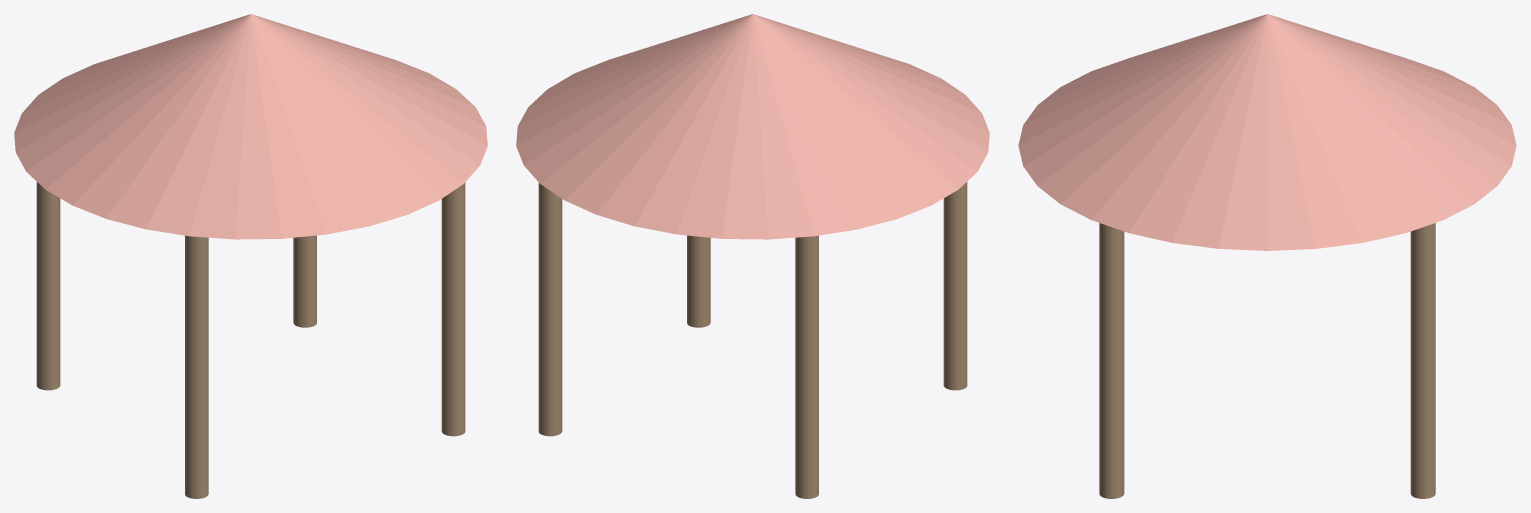
The model's file is cozy_gazebo.glb.
3 renders of one model, left to right at view 1: azimuth 30°, elevation 25°; view 2: azimuth 150°, elevation 25°; view 3: azimuth 270°, elevation 25°, orthographic. The views are drawn at different scales.
Parts seen in each view (by area): view 1: Cone, Cylinder, Cylinder.002, Cylinder.001, Cylinder.003; view 2: Cone, Cylinder.001, Cylinder.003, Cylinder, Cylinder.002; view 3: Cone, Cylinder.002, Cylinder.003.
Part boxes in pixels (x1=…): Cone: x1=14, y1=14, x2=487, y2=239; Cylinder: x1=185, y1=235, x2=208, y2=498; Cylinder.002: x1=441, y1=182, x2=465, y2=436; Cylinder.001: x1=36, y1=182, x2=60, y2=390; Cylinder.003: x1=293, y1=235, x2=316, y2=327; Cone: x1=516, y1=14, x2=989, y2=239; Cylinder.001: x1=795, y1=235, x2=818, y2=498; Cylinder.003: x1=538, y1=182, x2=562, y2=436; Cylinder: x1=943, y1=182, x2=967, y2=390; Cylinder.002: x1=687, y1=235, x2=710, y2=327; Cone: x1=1018, y1=14, x2=1516, y2=250; Cylinder.002: x1=1099, y1=223, x2=1124, y2=498; Cylinder.003: x1=1410, y1=223, x2=1435, y2=498.
Bounding box in the file's own units: 4.8 × 4.4 × 4.8.
